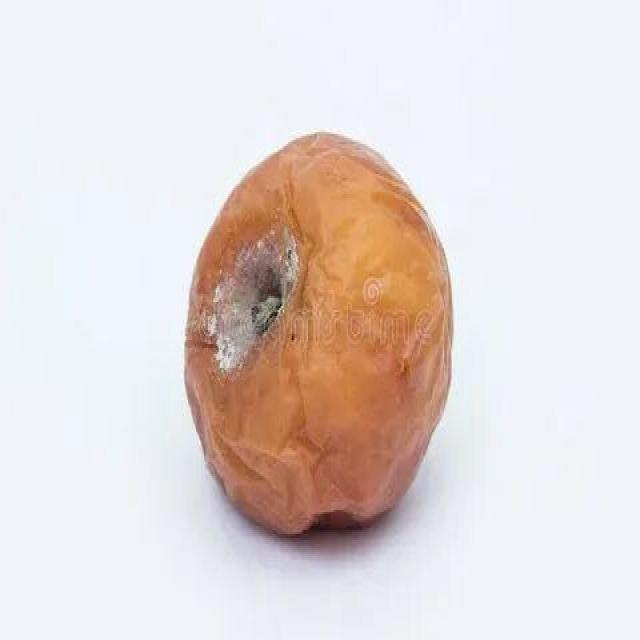Rotten: (188, 140, 462, 553)
